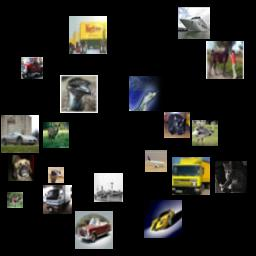airplane: (129, 76, 164, 111), (145, 150, 167, 172)
automobile: (144, 200, 182, 238), (1, 115, 39, 153), (75, 211, 113, 249)
bird: (60, 75, 98, 113), (192, 120, 218, 146), (48, 167, 64, 183)
cat: (215, 161, 247, 193), (164, 112, 190, 138)
deer: (43, 122, 69, 148), (7, 192, 23, 208)
dog: (8, 155, 34, 181)
ship: (178, 7, 210, 39), (94, 173, 123, 202)
truck: (69, 16, 107, 54), (172, 157, 210, 195), (43, 185, 72, 214), (21, 57, 43, 79)
